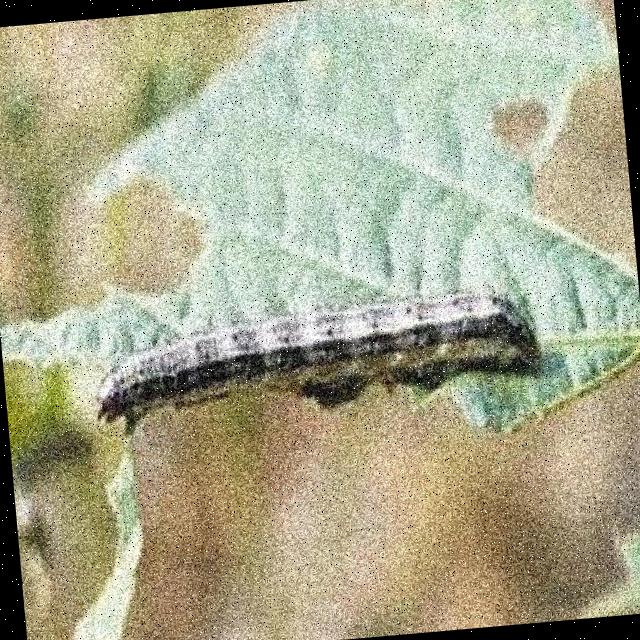worm: (88, 284, 544, 434)
